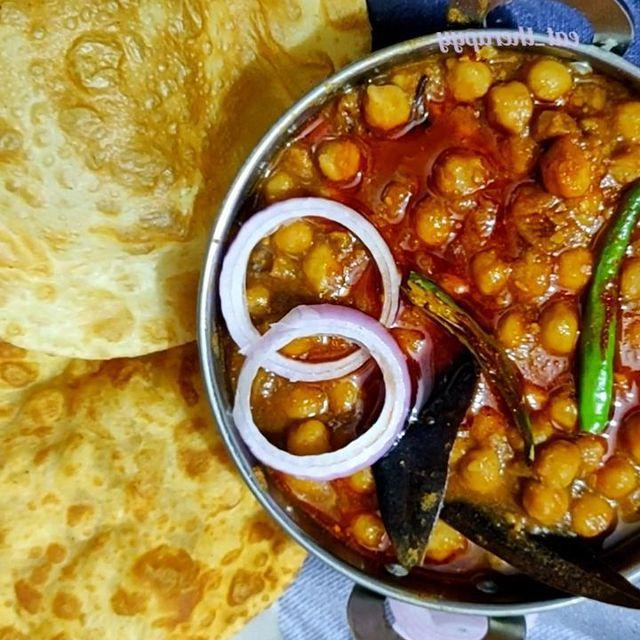Chole: (234, 52, 634, 484)
